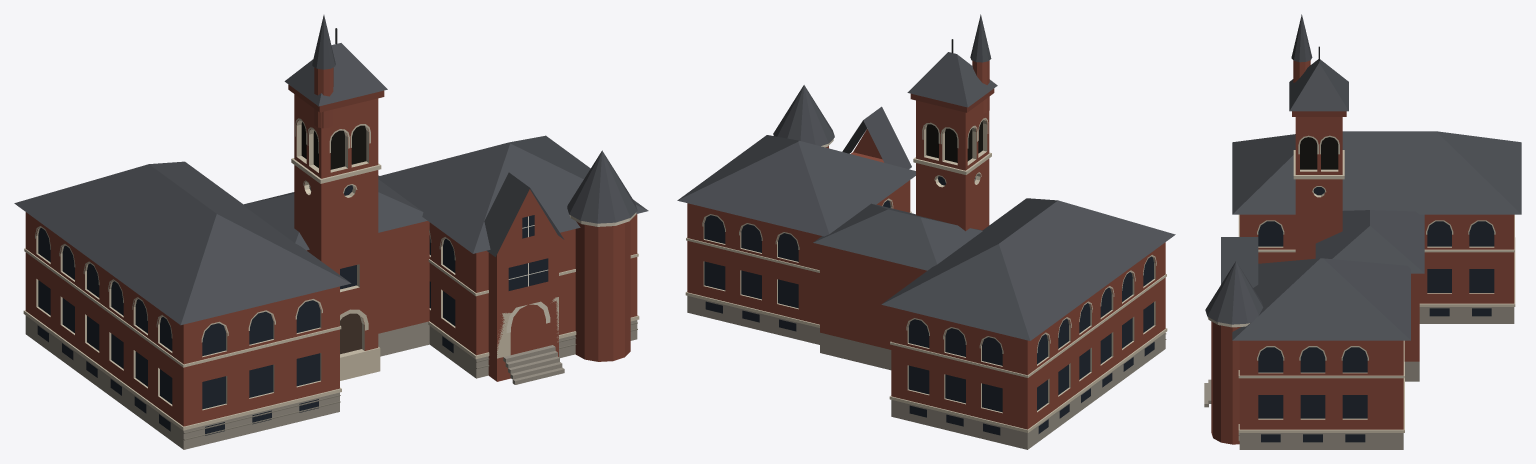
File: kramer-school-1913.glb
3 views of the same model, side by side, from view 1: azimuth 30°, elevation 25°; view 2: azimuth 150°, elevation 25°; view 3: azimuth 270°, elevation 25° (orthographic). The views are drawn at different scales.
Visible parts, largest first — view 1: kramer_brick, kramer_slate, kramer_glass, kramer_stone, kramer_base, kramer_shadow, kramer_joint, kramer_door, kramer_brick2; view 2: kramer_slate, kramer_brick, kramer_glass, kramer_base, kramer_stone, kramer_shadow, kramer_brick2; view 3: kramer_slate, kramer_brick, kramer_glass, kramer_stone, kramer_base, kramer_shadow, kramer_brick2.
Boxes of the visible parts, x1,y1,x2,y2 form: kramer_brick: [25, 67, 637, 426]; kramer_slate: [14, 15, 648, 325]; kramer_glass: [37, 185, 548, 435]; kramer_stone: [23, 118, 639, 430]; kramer_base: [25, 315, 637, 449]; kramer_shadow: [301, 122, 366, 169]; kramer_joint: [183, 322, 637, 440]; kramer_door: [340, 313, 361, 354]; kramer_brick2: [288, 84, 384, 112]; kramer_slate: [677, 14, 1175, 340]; kramer_brick: [687, 60, 1165, 429]; kramer_glass: [704, 176, 1154, 435]; kramer_base: [687, 296, 1165, 449]; kramer_stone: [685, 118, 1167, 432]; kramer_shadow: [926, 121, 982, 162]; kramer_brick2: [910, 88, 994, 112]; kramer_slate: [1205, 14, 1521, 340]; kramer_brick: [1211, 60, 1514, 444]; kramer_glass: [1258, 187, 1494, 442]; kramer_stone: [1238, 135, 1515, 432]; kramer_base: [1204, 307, 1514, 449]; kramer_shadow: [1300, 137, 1338, 169]; kramer_brick2: [1292, 111, 1346, 116].
Bounding box in the file's own units: 37.8 × 28.3 × 25.55.
